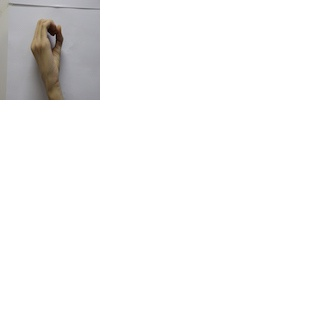rock: (22, 16, 77, 91)
